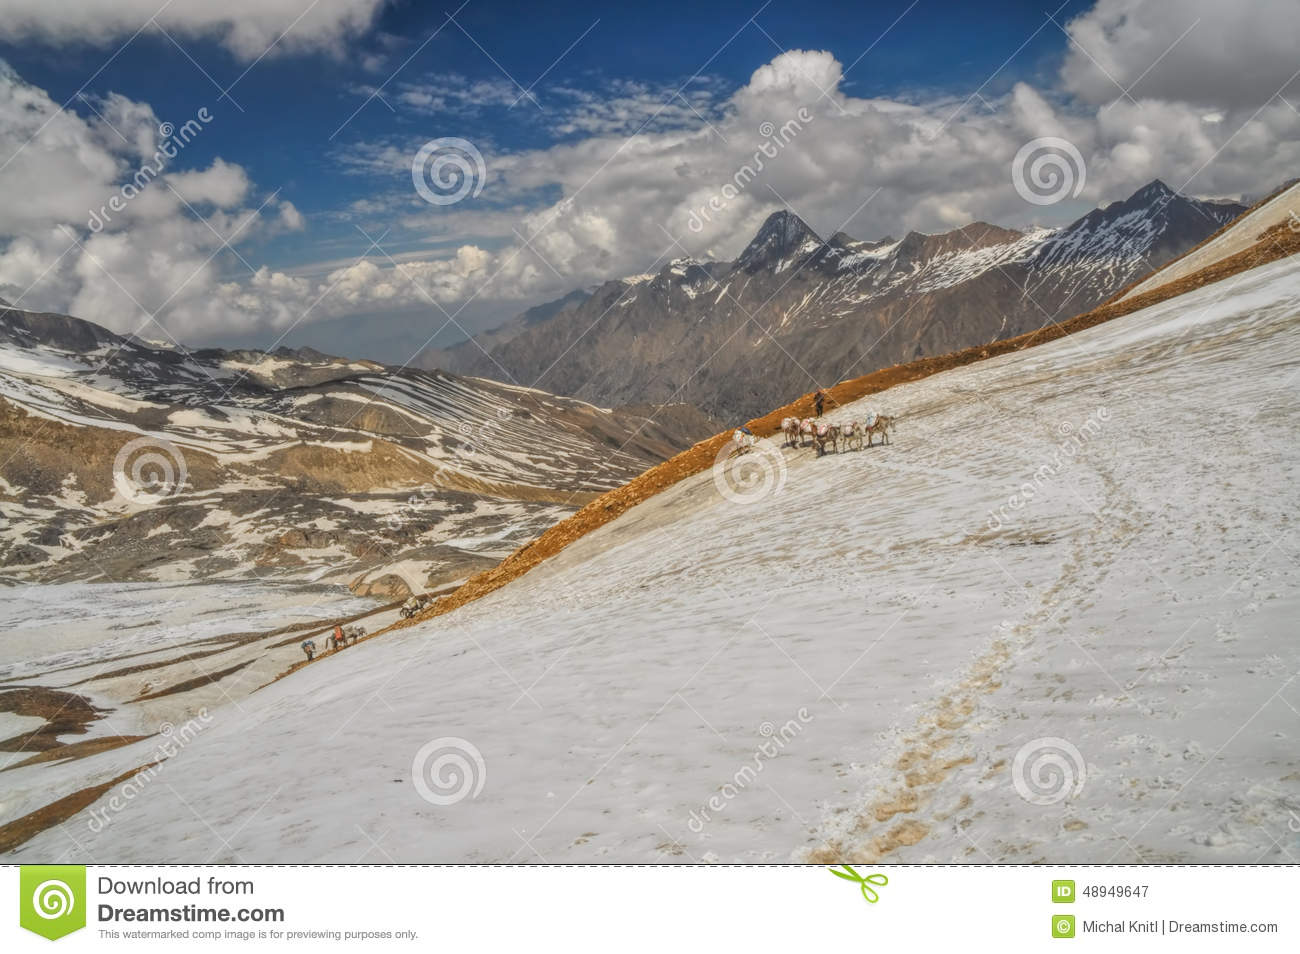equine: (860, 407, 896, 448), (779, 414, 808, 449)
